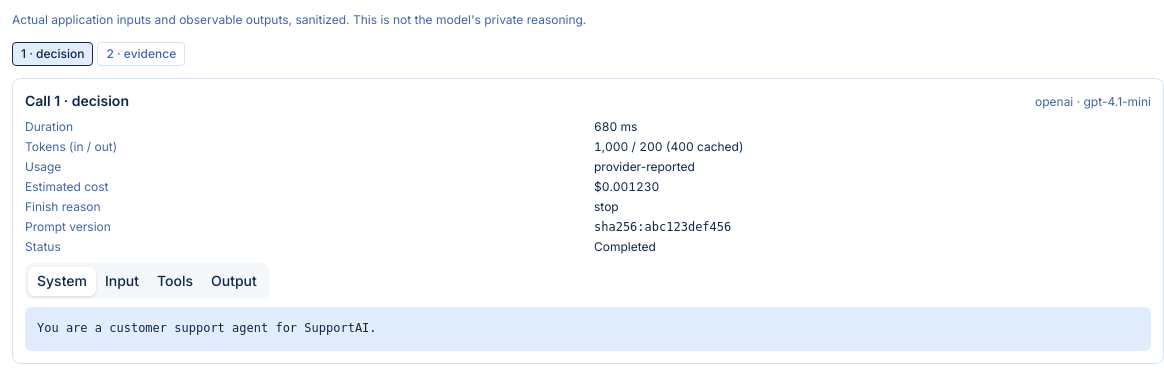
prompt inspector › switches between the calls of a run
Click the button with test id "model-call-button".
click(141, 54)  # box [97,42,185,66]
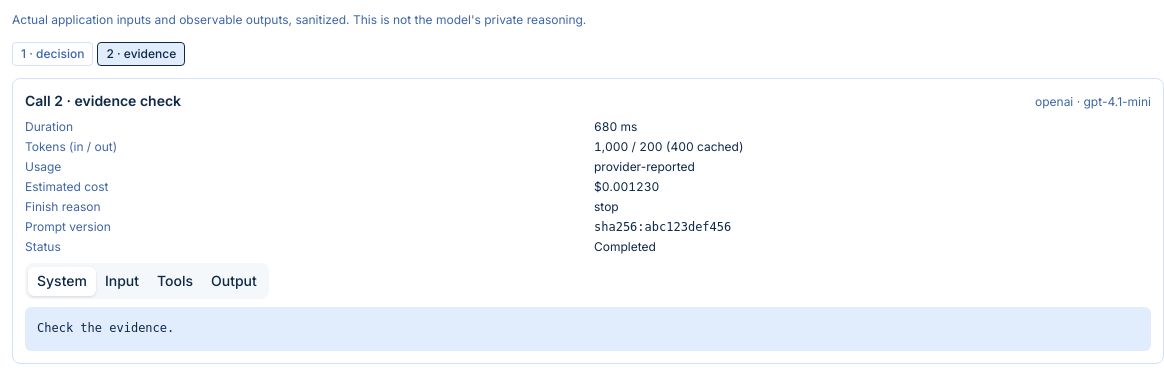
Expected: the text with test id "prompt-system" reads "Check the evidence.", [37,321,174,335]
